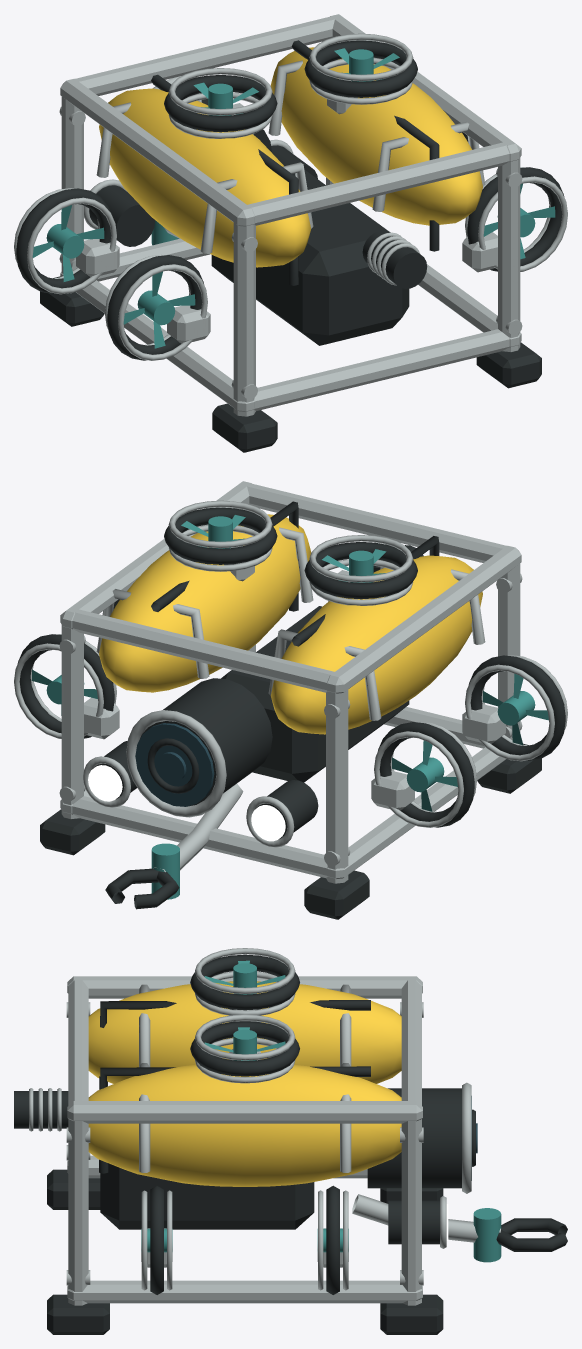
The model's file is sentry_research_rov.glb.
3 renders of one model, top to bottom at view 1: azimuth 30°, elevation 25°; view 2: azimuth 150°, elevation 25°; view 3: azimuth 270°, elevation 25°, orthographic. The views are drawn at different scales.
Visible parts, largest first — view 1: Sentry brushed titanium, Sentry elastomer, Sentry flotation enamel, Sentry thruster anodizing, Sentry rotor 0, Sentry rotor 2; view 2: Sentry brushed titanium, Sentry elastomer, Sentry flotation enamel, Sentry thruster anodizing, Sentry optical glass, Sentry survey lamps, Sentry rotor 2, Sentry rotor 0; view 3: Sentry brushed titanium, Sentry flotation enamel, Sentry elastomer, Sentry thruster anodizing.
Part boxes in pixels (x1=…): Sentry brushed titanium: x1=14, y1=14, x2=567, y2=416; Sentry elastomer: x1=16, y1=40, x2=564, y2=452; Sentry flotation enamel: x1=99, y1=47, x2=482, y2=267; Sentry thruster anodizing: x1=46, y1=49, x2=535, y2=325; Sentry rotor 0: x1=123, y1=271, x2=195, y2=348; Sentry rotor 2: x1=32, y1=205, x2=104, y2=281; Sentry brushed titanium: x1=14, y1=481, x2=567, y2=883; Sentry elastomer: x1=17, y1=501, x2=565, y2=919; Sentry flotation enamel: x1=99, y1=514, x2=482, y2=734; Sentry thruster anodizing: x1=46, y1=516, x2=535, y2=899; Sentry optical glass: x1=135, y1=723, x2=214, y2=806; Sentry survey lamps: x1=88, y1=765, x2=285, y2=841; Sentry rotor 2: x1=392, y1=740, x2=457, y2=811; Sentry rotor 0: x1=482, y1=673, x2=548, y2=745; Sentry brushed titanium: x1=29, y1=948, x2=500, y2=1305; Sentry flotation enamel: x1=88, y1=981, x2=401, y2=1186; Sentry elastomer: x1=14, y1=954, x2=567, y2=1334; Sentry thruster anodizing: x1=141, y1=963, x2=501, y2=1262.
Bounding box in the file's own units: 1.63 × 0.9275 × 1.76.
